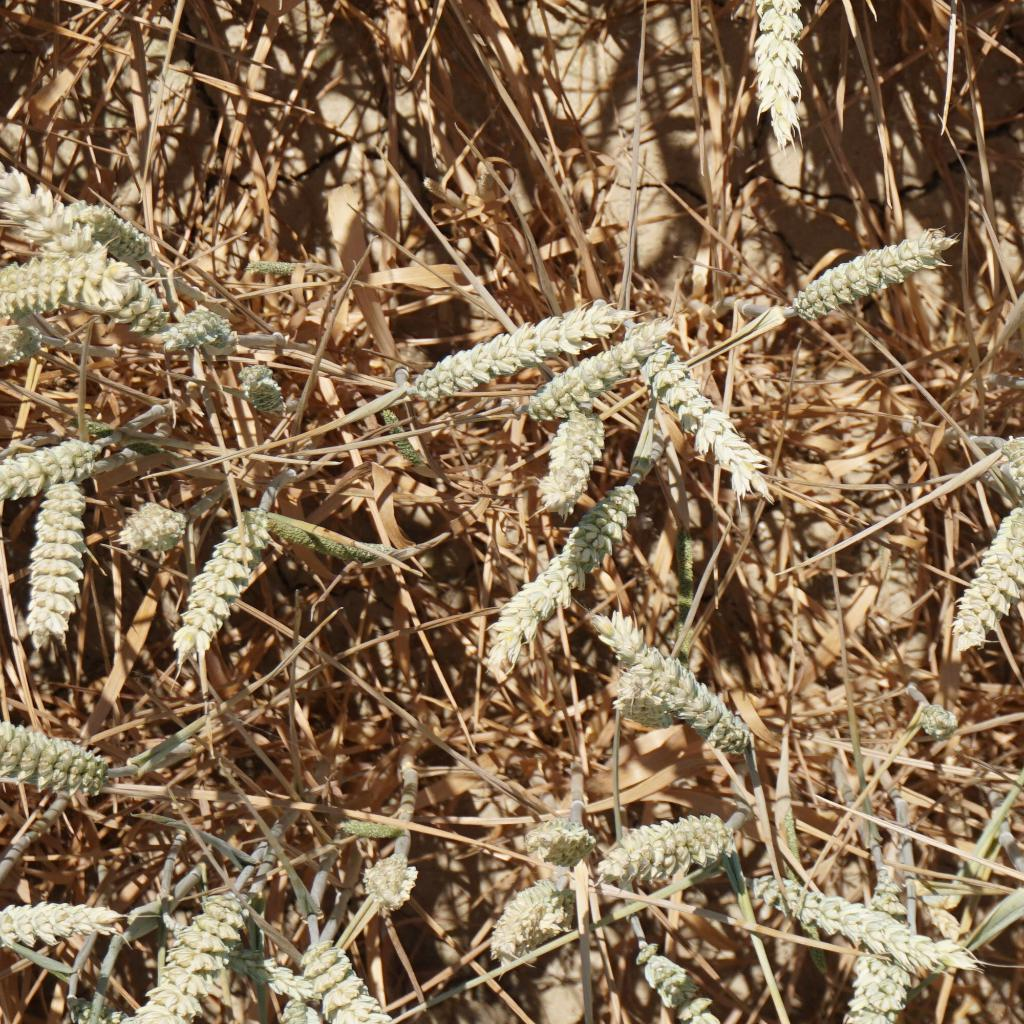0-0: (779, 210, 935, 328), (754, 874, 939, 972), (0, 175, 134, 309), (649, 360, 768, 498), (403, 313, 618, 384), (612, 647, 761, 744), (159, 880, 262, 1014), (516, 326, 669, 413), (177, 521, 273, 647), (0, 700, 114, 805), (472, 551, 569, 667), (13, 478, 84, 626), (82, 190, 183, 293), (943, 500, 1024, 628), (746, 0, 815, 141), (527, 390, 612, 504), (606, 811, 722, 891), (0, 439, 139, 502), (297, 935, 395, 1024), (0, 888, 123, 951), (858, 870, 909, 1021), (628, 933, 712, 1024), (559, 492, 653, 570), (151, 297, 249, 368), (490, 884, 569, 966), (112, 480, 188, 559), (234, 366, 309, 441), (0, 244, 78, 307), (525, 801, 590, 866), (362, 846, 427, 900), (0, 316, 55, 379), (905, 697, 970, 748), (604, 608, 647, 665), (1004, 441, 1024, 529)
